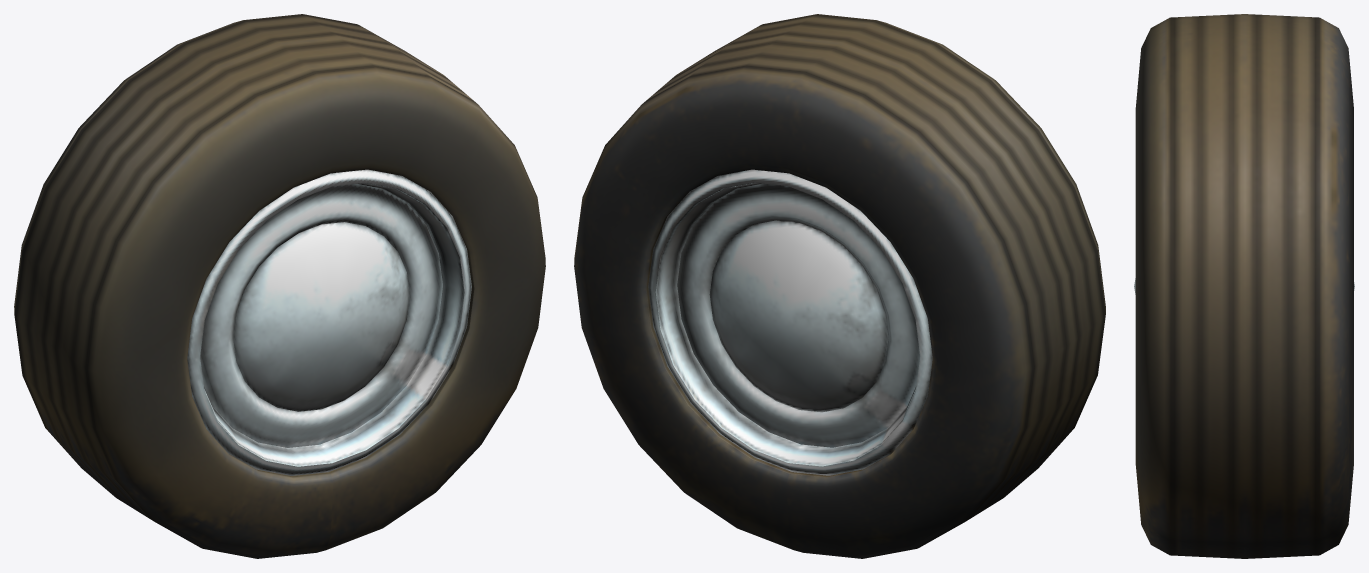
Rendered from SK_Vehicles_Saxo_Wheel.FBX.
3 renders of one model, left to right at view 1: azimuth 30°, elevation 25°; view 2: azimuth 150°, elevation 25°; view 3: azimuth 270°, elevation 25°, orthographic. The views are drawn at different scales.
Parts seen in each view (by area): view 1: SK_Vehicles_Saxo_Wheel; view 2: SK_Vehicles_Saxo_Wheel; view 3: SK_Vehicles_Saxo_Wheel.
Part boxes in pixels (bbox=[...]): SK_Vehicles_Saxo_Wheel: bbox=[14, 14, 545, 558]; SK_Vehicles_Saxo_Wheel: bbox=[574, 14, 1105, 558]; SK_Vehicles_Saxo_Wheel: bbox=[1134, 14, 1354, 558].
Size of the model in its own units: 73.26 by 73.26 by 29.57.
1 material, 1 textured.
